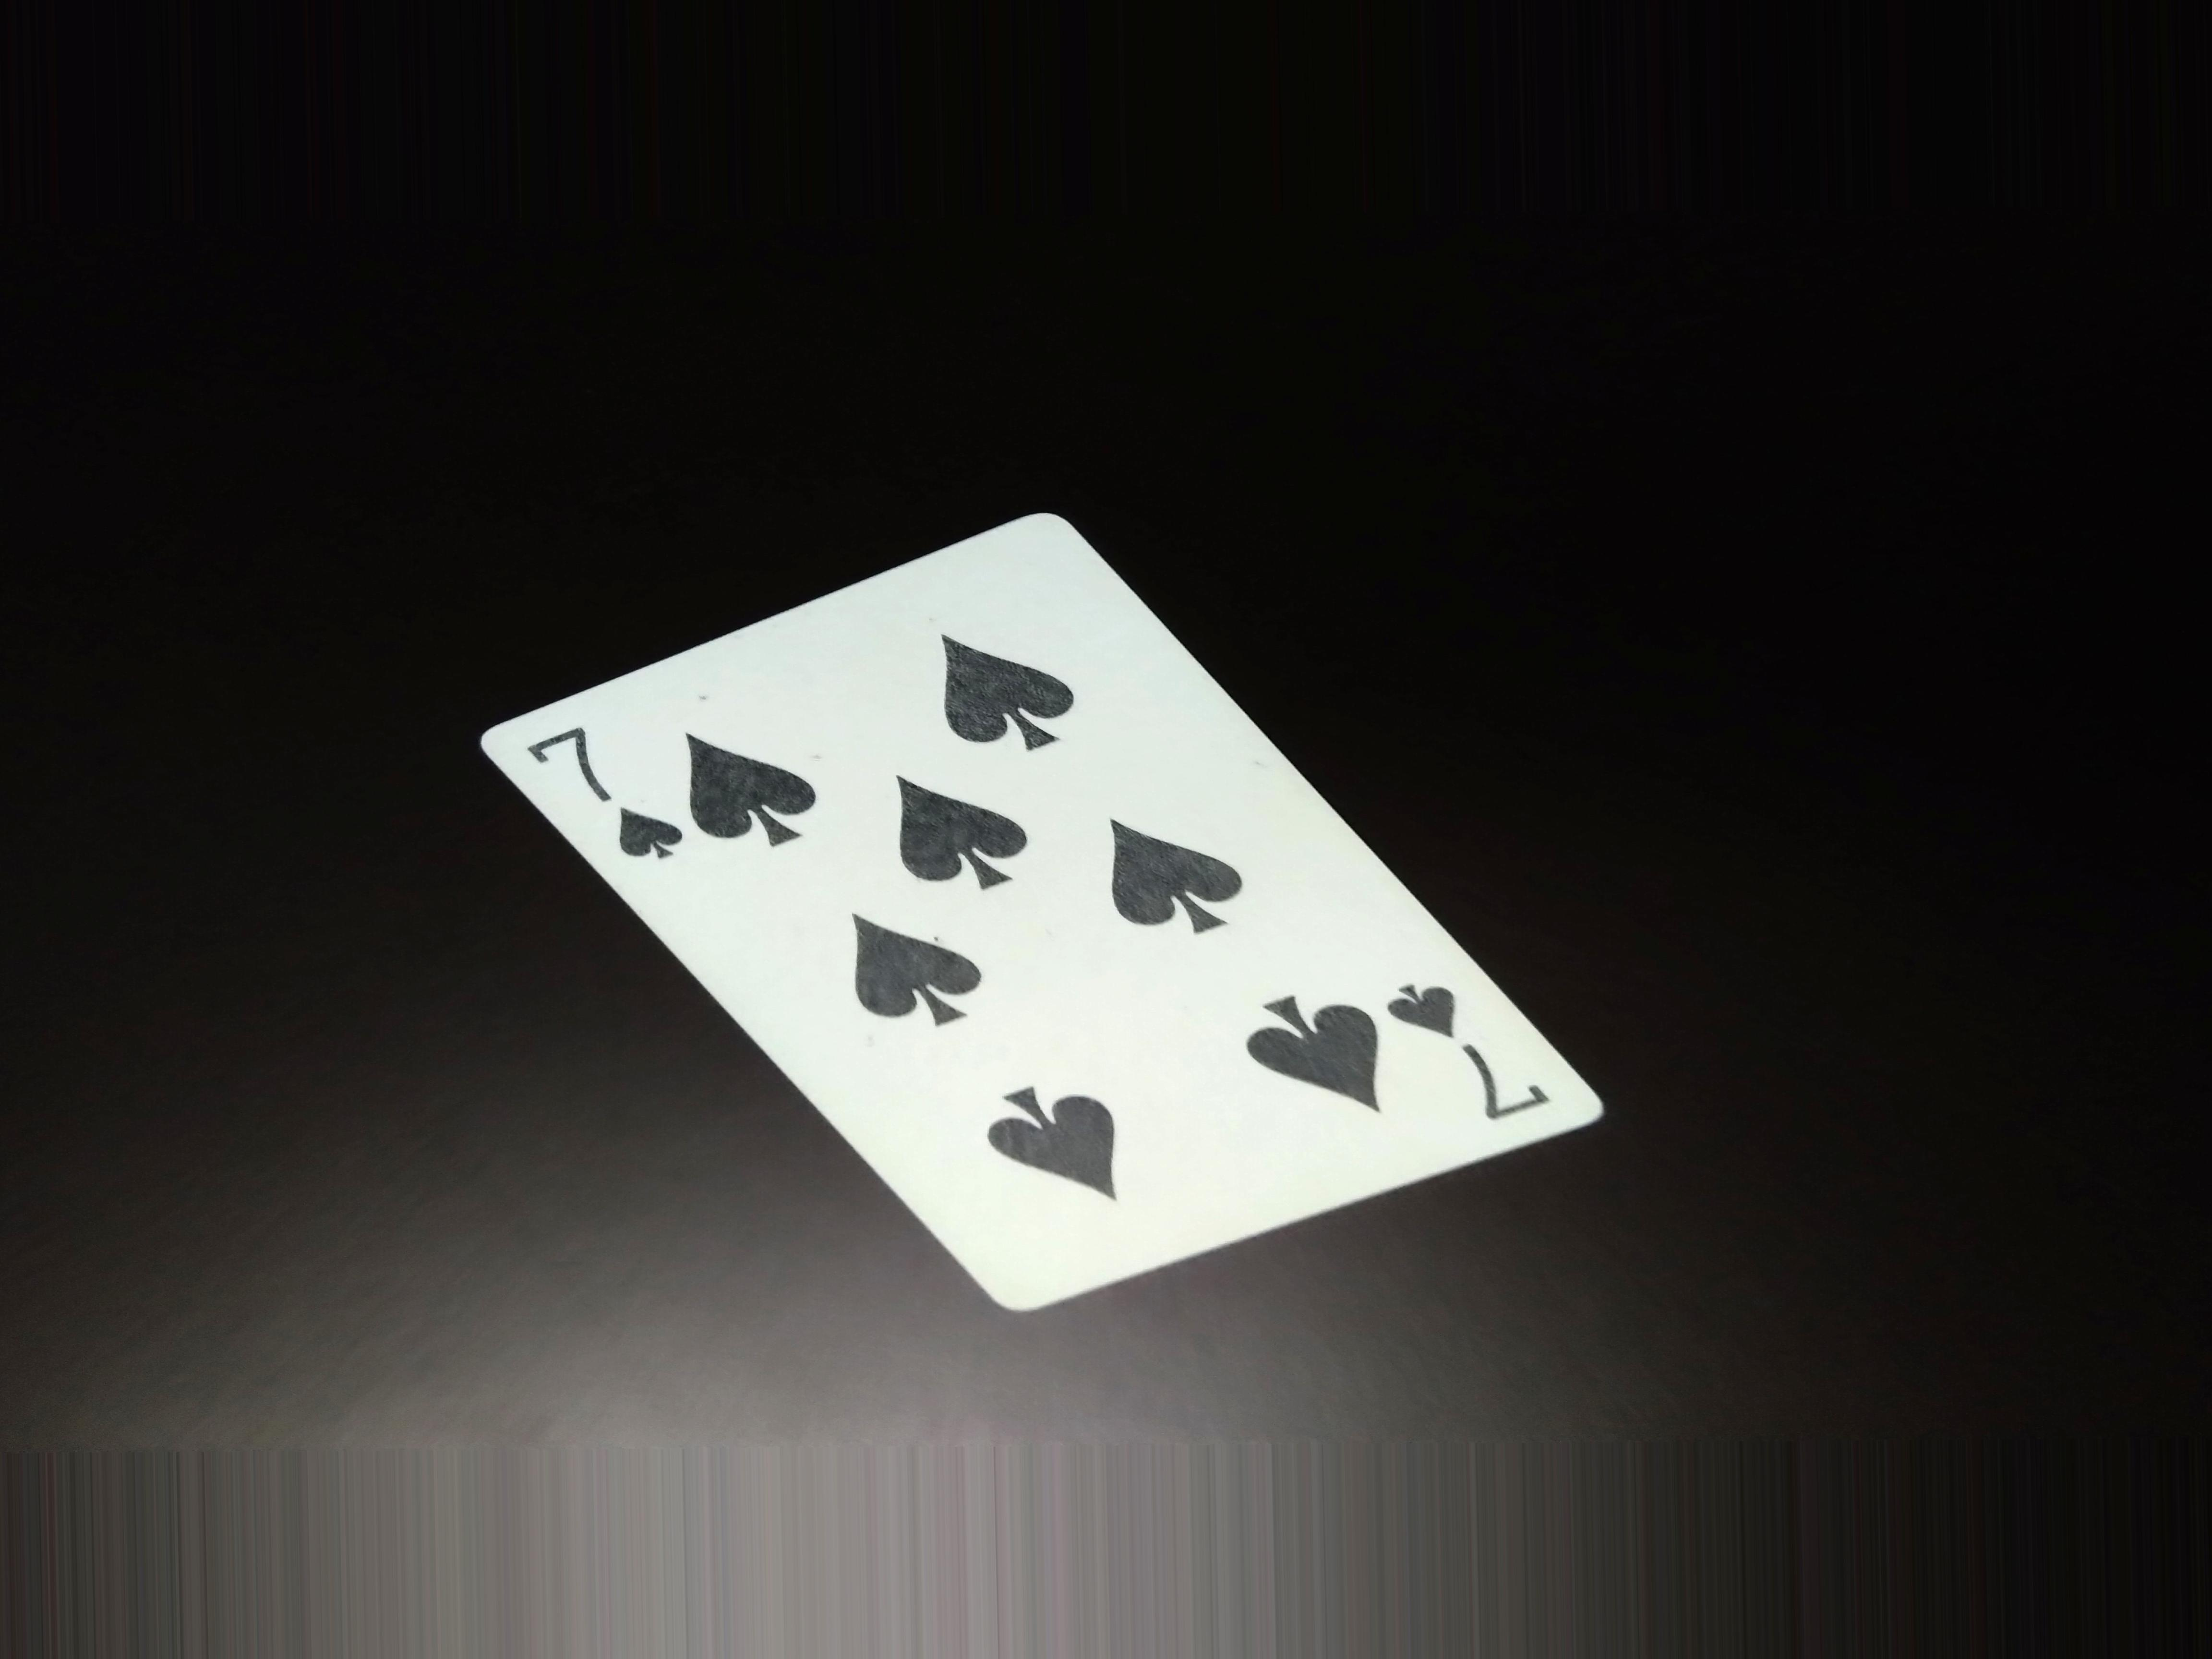7S: (519, 725, 705, 899)
